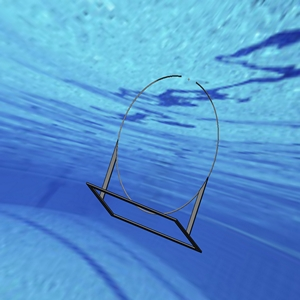circle: (85, 71, 222, 254)
